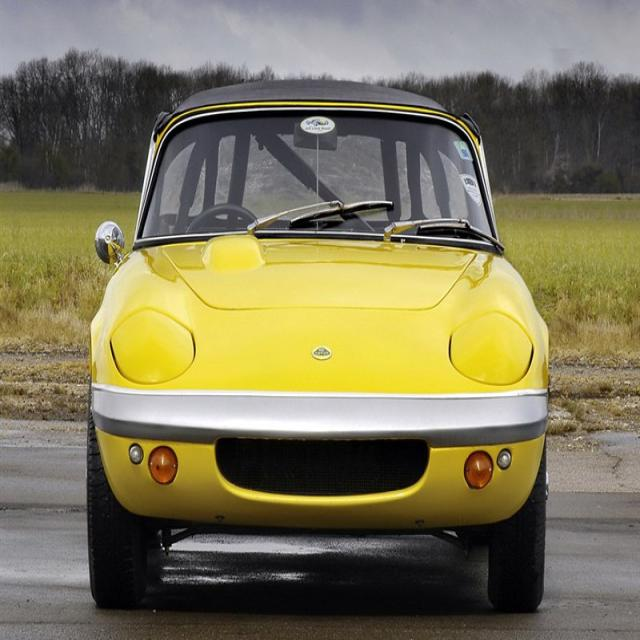front_bumper: (86, 380, 551, 447)
front_glass: (137, 108, 500, 256)
front_right_side_mirror: (94, 214, 130, 266)
wheel: (483, 474, 549, 612), (88, 461, 147, 606)
